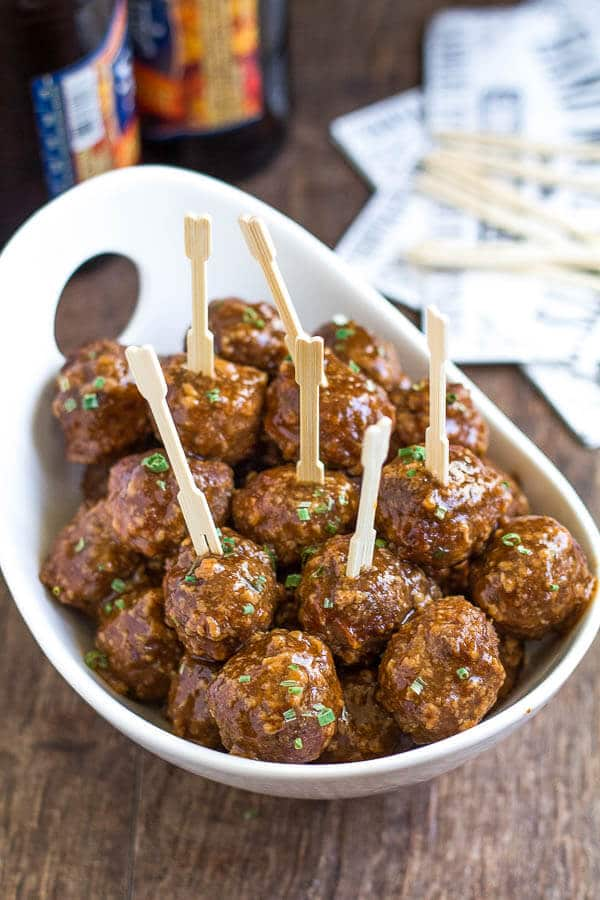meatballs: (217, 631, 340, 749), (381, 605, 504, 721), (468, 527, 598, 635), (300, 532, 415, 648), (384, 458, 502, 561), (147, 352, 263, 453), (260, 360, 374, 461), (161, 540, 278, 637), (113, 462, 231, 548), (56, 345, 149, 453), (93, 583, 183, 687), (242, 471, 357, 550), (49, 505, 134, 608), (396, 374, 491, 455)
